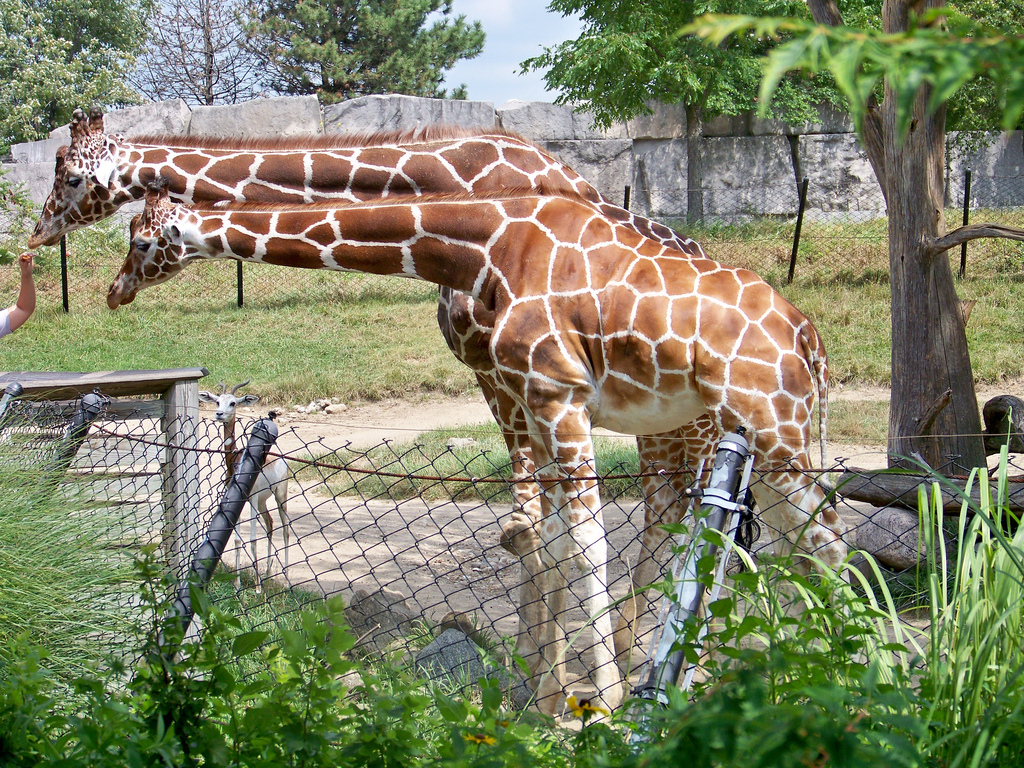giraffe: (114, 203, 884, 640), (29, 119, 589, 274)
